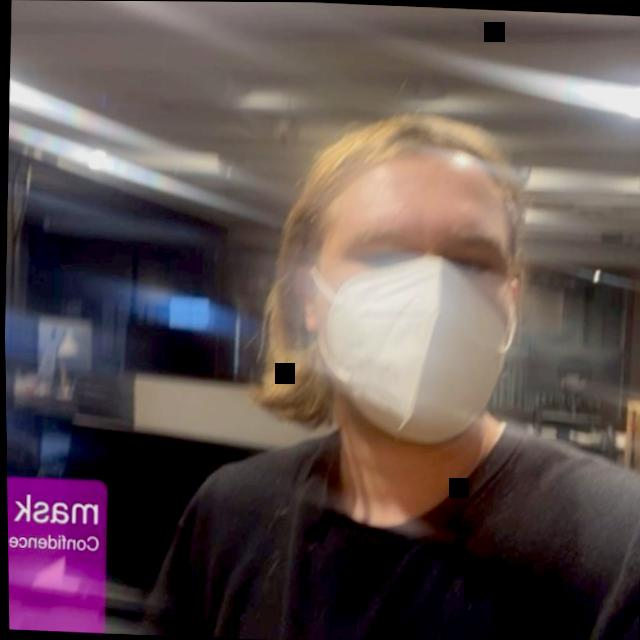Mask: (243, 94, 544, 472)
